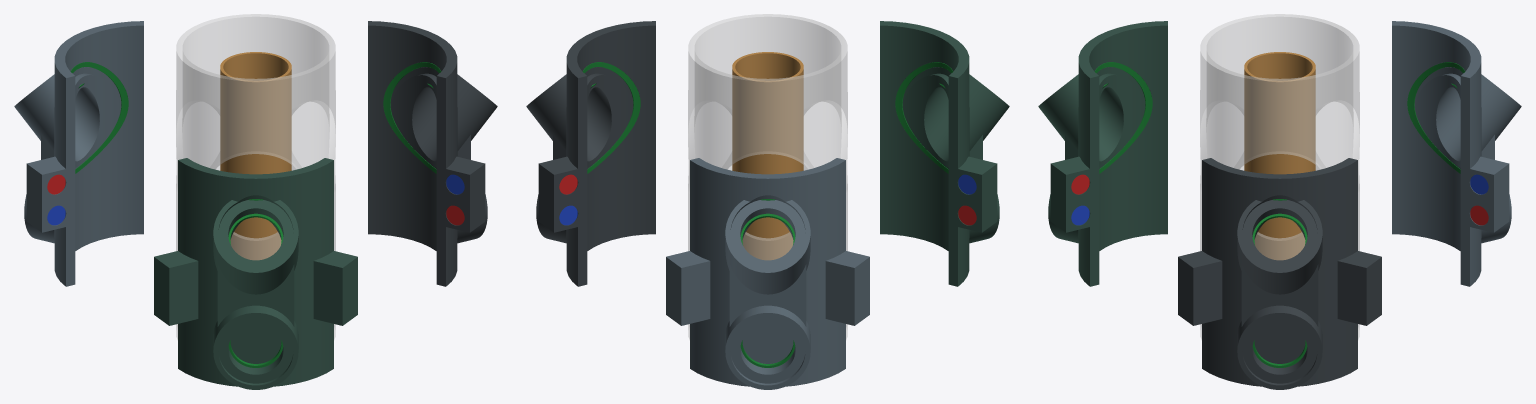
Rendered from pipe-collar-3seat-exploded.glb.
The picture shows the model from 3 angles, left to right: view 1: azimuth 30°, elevation 25°; view 2: azimuth 150°, elevation 25°; view 3: azimuth 270°, elevation 25°; orthographic projection.
Visible parts, largest first — view 1: collar_piece_3, collar_piece_2, collar_piece_1, pipe_75, spine_tube_33.7, gasket_EPDM_1, gasket_EPDM_2, seat_orings_3; view 2: collar_piece_2, collar_piece_1, collar_piece_3, pipe_75, spine_tube_33.7, gasket_EPDM_3, gasket_EPDM_1, seat_orings_2; view 3: collar_piece_1, collar_piece_3, collar_piece_2, pipe_75, spine_tube_33.7, gasket_EPDM_2, gasket_EPDM_3, seat_orings_1.
Part boxes in pixels (left/top/right/bottom): collar_piece_3: left=154, top=158, right=357, bottom=389; collar_piece_2: left=14, top=21, right=143, bottom=286; collar_piece_1: left=368, top=21, right=497, bottom=286; pipe_75: left=176, top=14, right=335, bottom=339; spine_tube_33.7: left=220, top=52, right=291, bottom=260; gasket_EPDM_1: left=383, top=62, right=441, bottom=173; gasket_EPDM_2: left=70, top=62, right=128, bottom=173; seat_orings_3: left=228, top=213, right=283, bottom=367; collar_piece_2: left=666, top=158, right=869, bottom=389; collar_piece_1: left=526, top=21, right=655, bottom=286; collar_piece_3: left=880, top=21, right=1009, bottom=286; pipe_75: left=688, top=14, right=847, bottom=339; spine_tube_33.7: left=732, top=52, right=803, bottom=260; gasket_EPDM_3: left=895, top=62, right=953, bottom=173; gasket_EPDM_1: left=582, top=62, right=640, bottom=173; seat_orings_2: left=740, top=213, right=795, bottom=367; collar_piece_1: left=1178, top=158, right=1381, bottom=389; collar_piece_3: left=1038, top=21, right=1167, bottom=286; collar_piece_2: left=1392, top=21, right=1521, bottom=286; pipe_75: left=1200, top=14, right=1359, bottom=339; spine_tube_33.7: left=1244, top=52, right=1315, bottom=260; gasket_EPDM_2: left=1407, top=62, right=1465, bottom=173; gasket_EPDM_3: left=1094, top=62, right=1152, bottom=173; seat_orings_1: left=1252, top=213, right=1307, bottom=367.
Size of the model in its own units: 213 by 148 by 227.
